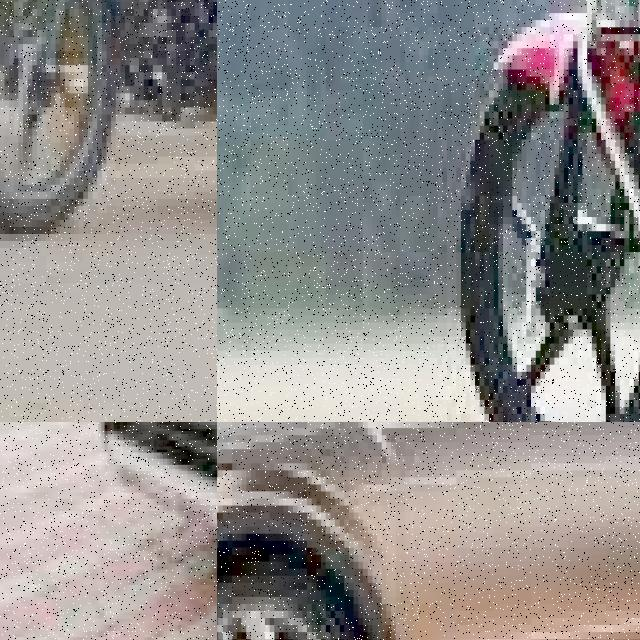bike: (451, 0, 640, 422), (0, 0, 217, 255)
car: (217, 422, 640, 640), (43, 422, 217, 640)
